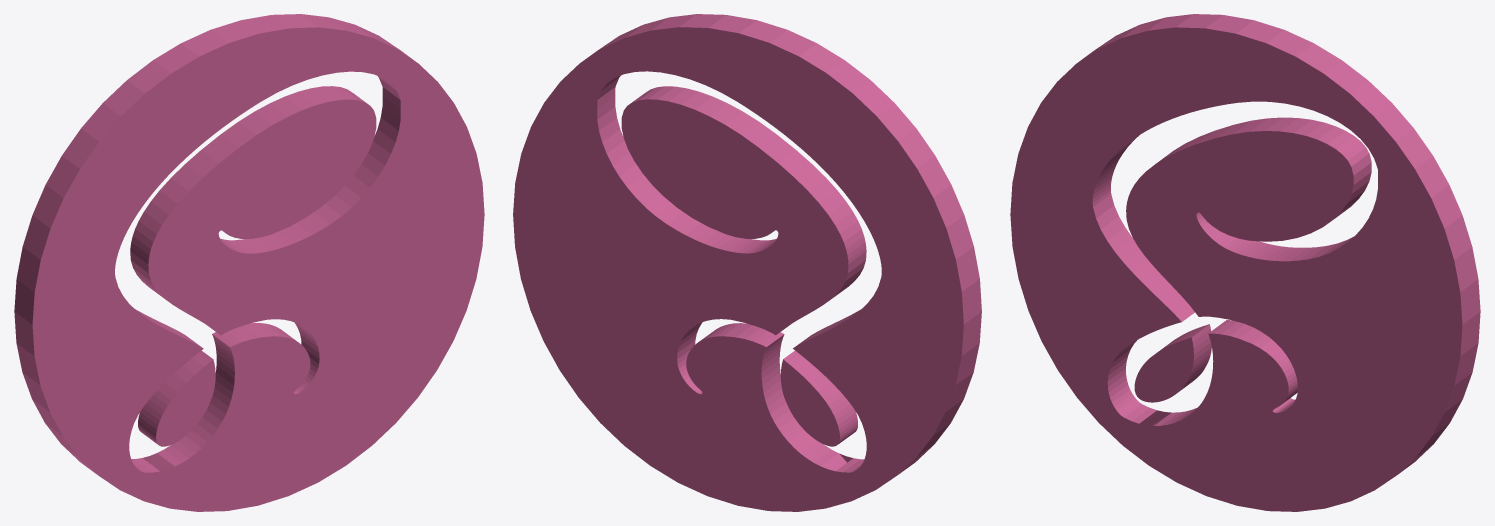
File: Sass_model.glb
The picture shows the model from 3 angles, left to right: view 1: azimuth 30°, elevation 25°; view 2: azimuth 150°, elevation 25°; view 3: azimuth 330°, elevation 25°; orthographic projection.
Visible parts, largest first — view 1: Curve; view 2: Curve; view 3: Curve.
Boxes of the visible parts, x1,y1,x2,y2 form: Curve: (14,14,484,511); Curve: (513,14,981,511); Curve: (1010,14,1480,511).
Bounding box in the file's own units: 0.6774 × 0.6774 × 0.0501.
